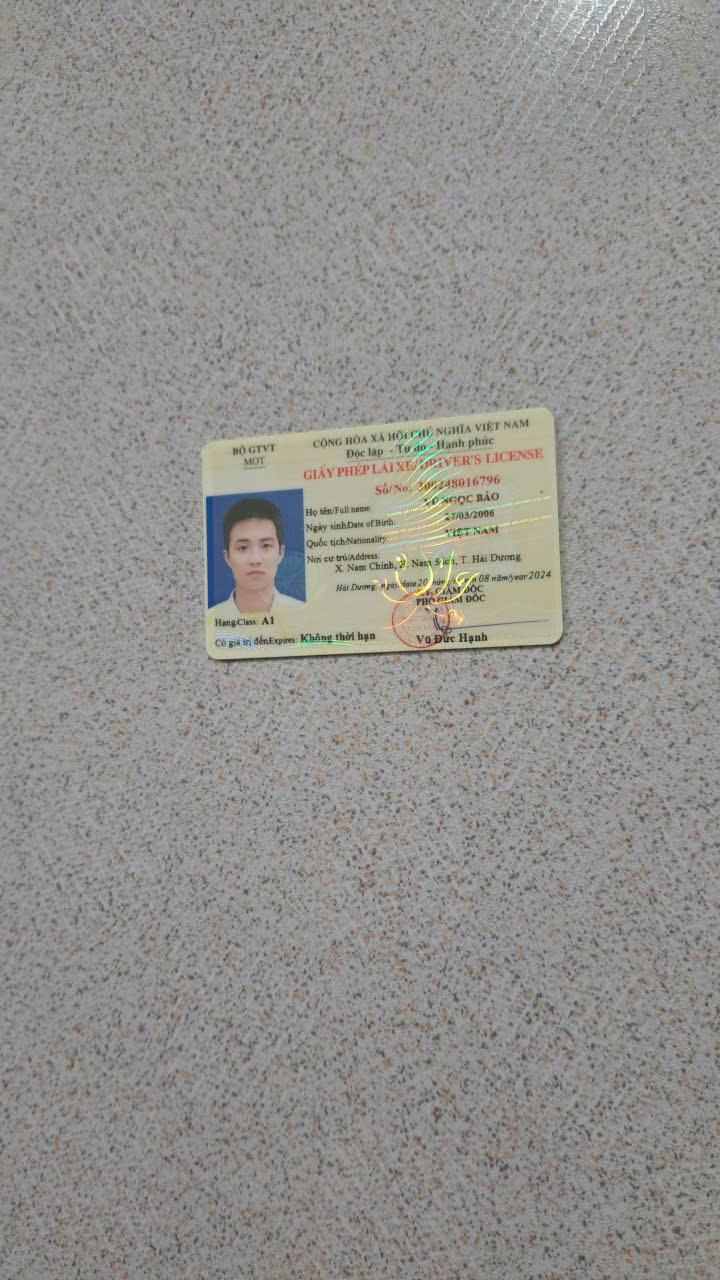gplx: (196, 401, 567, 670)
